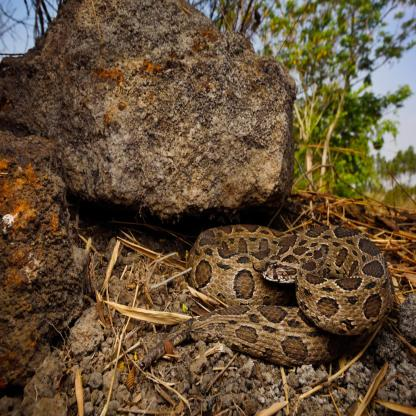Snake: (191, 218, 395, 366)
